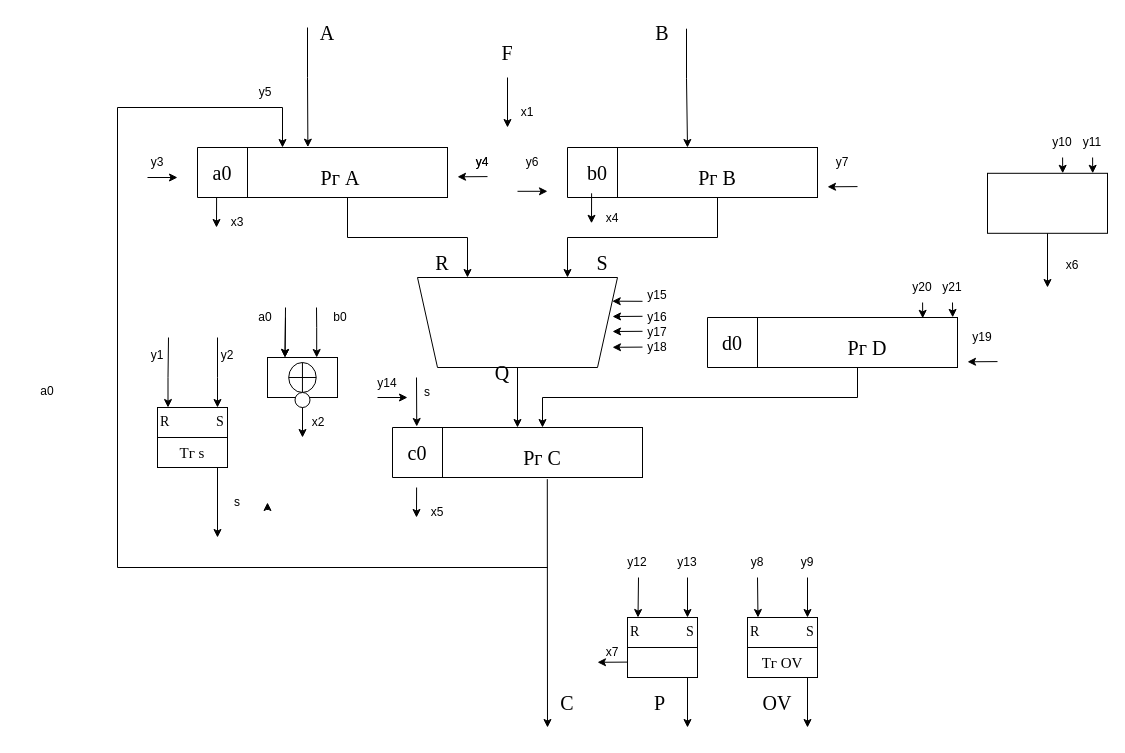
This 1125x753 diagram has some shape labels left out. Each missing label, with the box of its shape:
Сум/Выч: (416, 276, 618, 368)
Сч n: (986, 172, 1108, 233)
Тг P: (626, 646, 698, 678)
